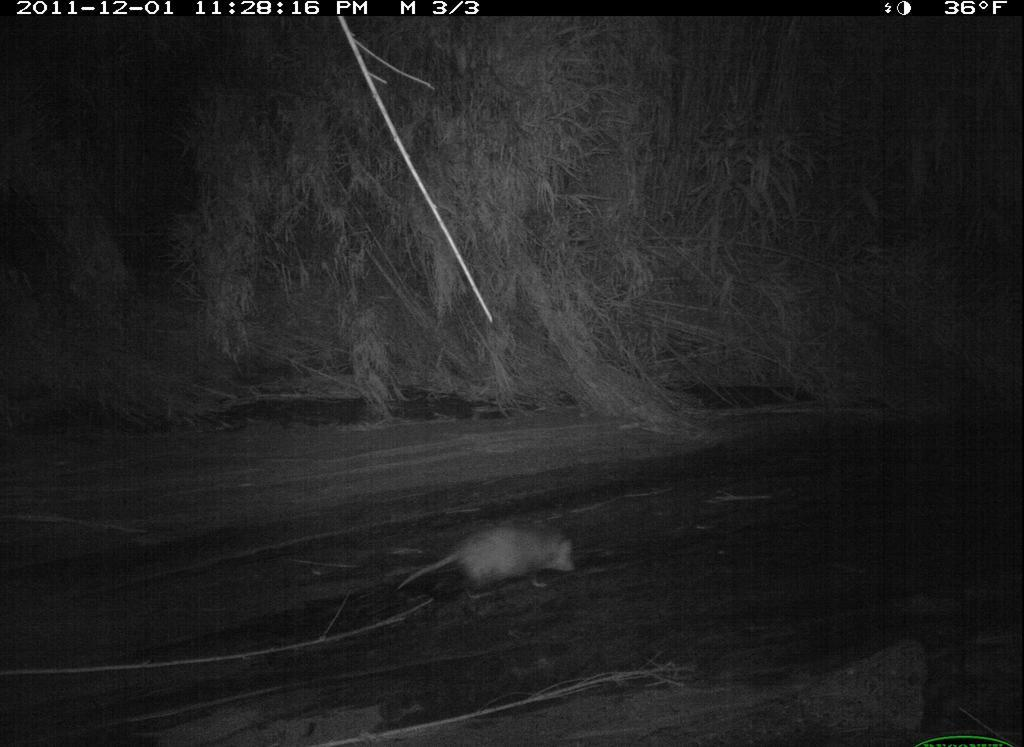opossum: (392, 519, 582, 603)
